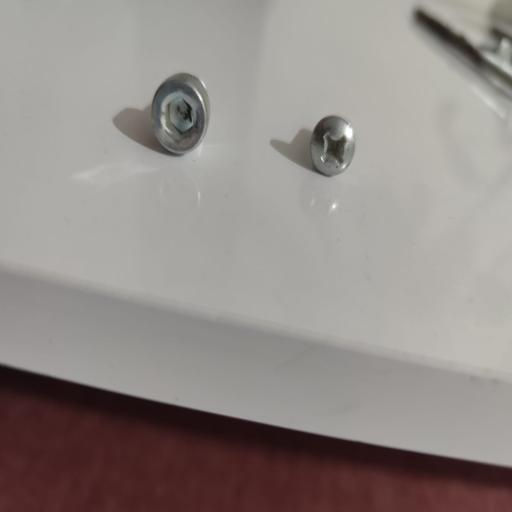Hex-Allen: (141, 76, 213, 167)
Phillips: (305, 114, 358, 178)
